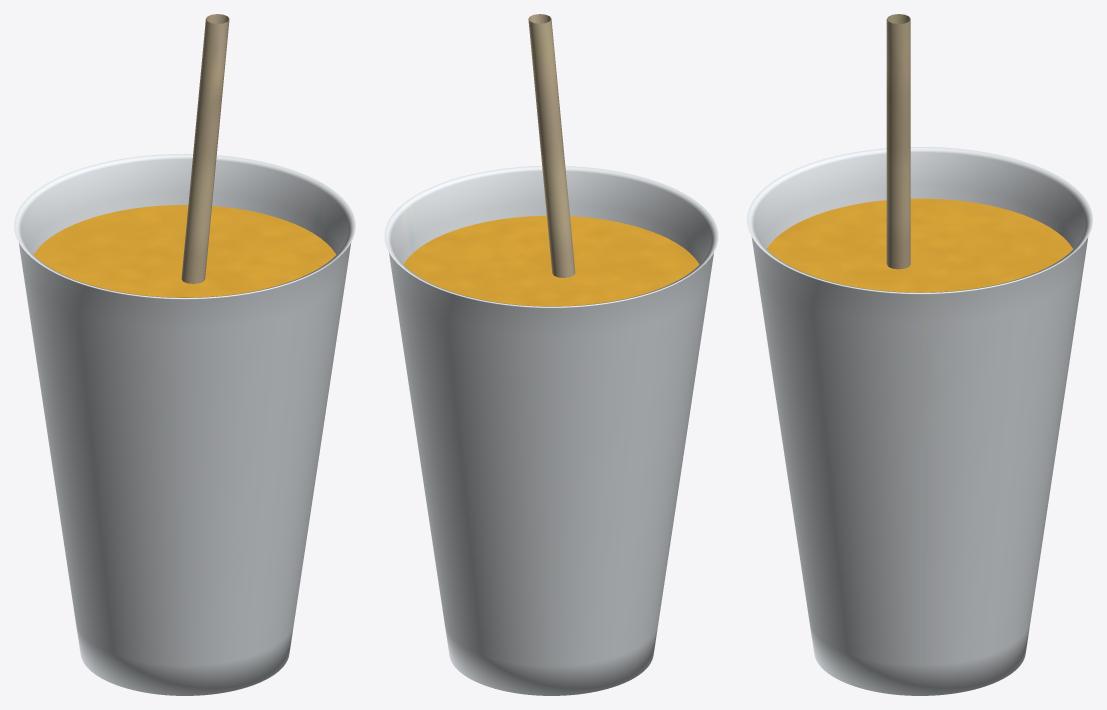
Rendered from energy-booster.glb.
3 renders of one model, left to right at view 1: azimuth 30°, elevation 25°; view 2: azimuth 150°, elevation 25°; view 3: azimuth 270°, elevation 25°, orthographic. The views are drawn at different scales.
Parts seen in each view (by area): view 1: clear, gloss, satin; view 2: clear, gloss, satin; view 3: clear, gloss, satin.
Boxes of the visible parts, bbox=[...] form: clear: bbox=[14, 153, 355, 695]; gloss: bbox=[34, 205, 335, 297]; satin: bbox=[181, 14, 229, 283]; clear: bbox=[384, 166, 718, 695]; gloss: bbox=[403, 215, 699, 306]; satin: bbox=[528, 14, 575, 277]; clear: bbox=[747, 147, 1092, 695]; gloss: bbox=[767, 198, 1072, 292]; satin: bbox=[886, 14, 910, 269].
Size of the model in its own units: 0.098 by 0.201 by 0.098.
Materials: 3 (3 with a texture image).
